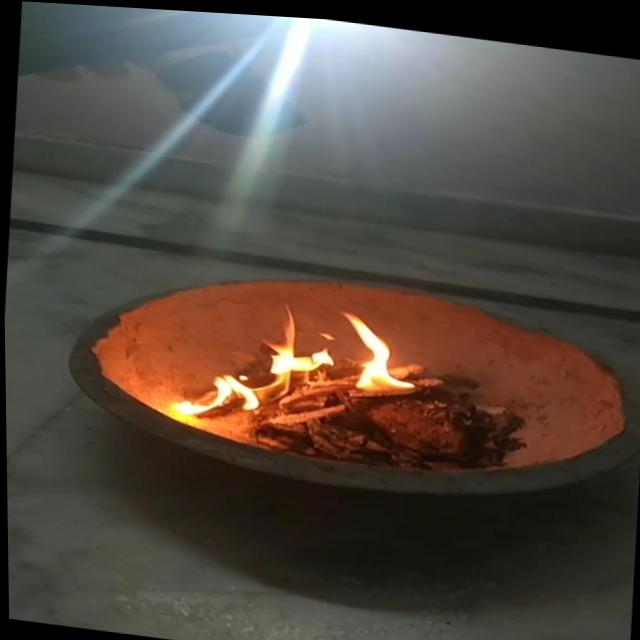fire: (174, 285, 422, 442)
